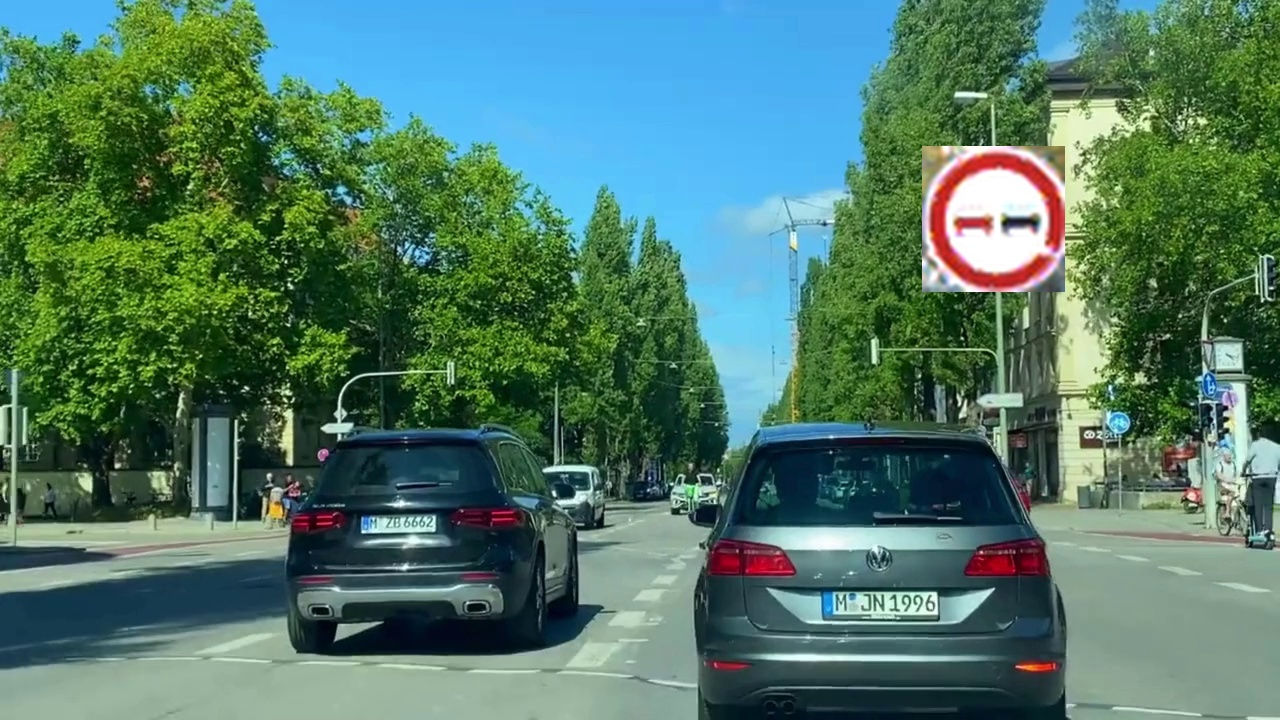No passing: (922, 146, 1065, 292)
